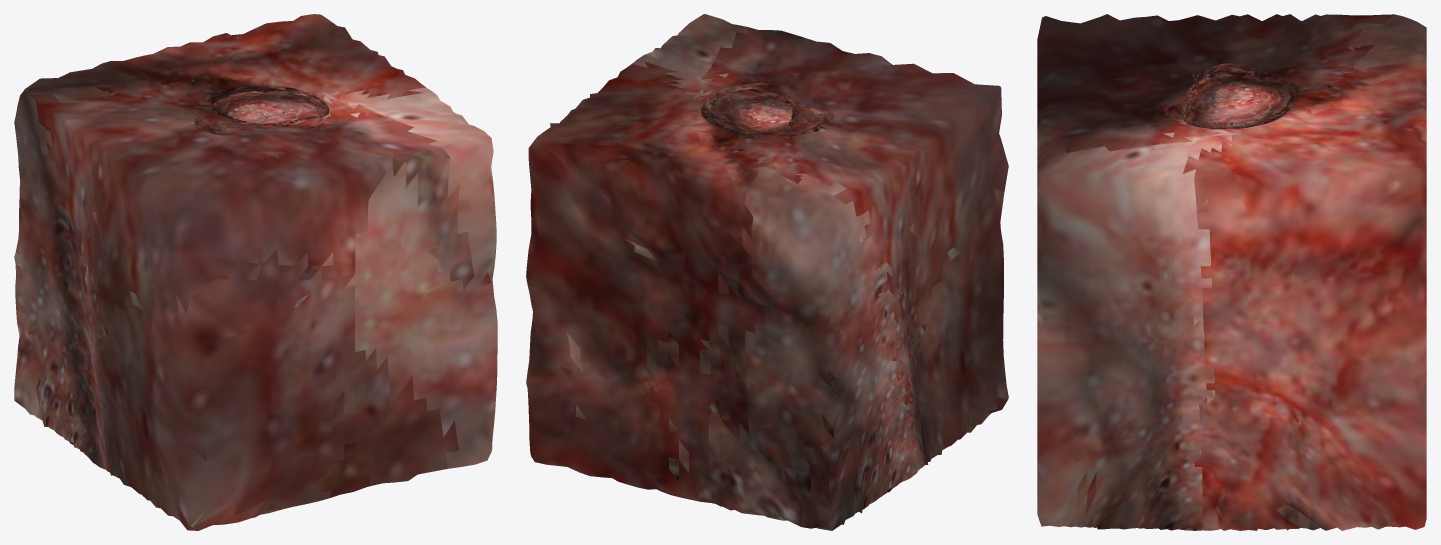
File: fleisch.glb
3 renders of one model, left to right at view 1: azimuth 30°, elevation 25°; view 2: azimuth 150°, elevation 25°; view 3: azimuth 270°, elevation 25°, orthographic. The views are drawn at different scales.
Visible parts, largest first — view 1: result_tmpo1nq038p.obj_E1D5QPW0NHKP; view 2: result_tmpo1nq038p.obj_E1D5QPW0NHKP; view 3: result_tmpo1nq038p.obj_E1D5QPW0NHKP.
Boxes of the visible parts, x1,y1,x2,y2 form: result_tmpo1nq038p.obj_E1D5QPW0NHKP: (14,14,497,530); result_tmpo1nq038p.obj_E1D5QPW0NHKP: (526,14,1008,530); result_tmpo1nq038p.obj_E1D5QPW0NHKP: (1037,14,1426,530).
Bounding box in the file's own units: 1 × 1 × 1.
Materials: 1 (1 with a texture image).
